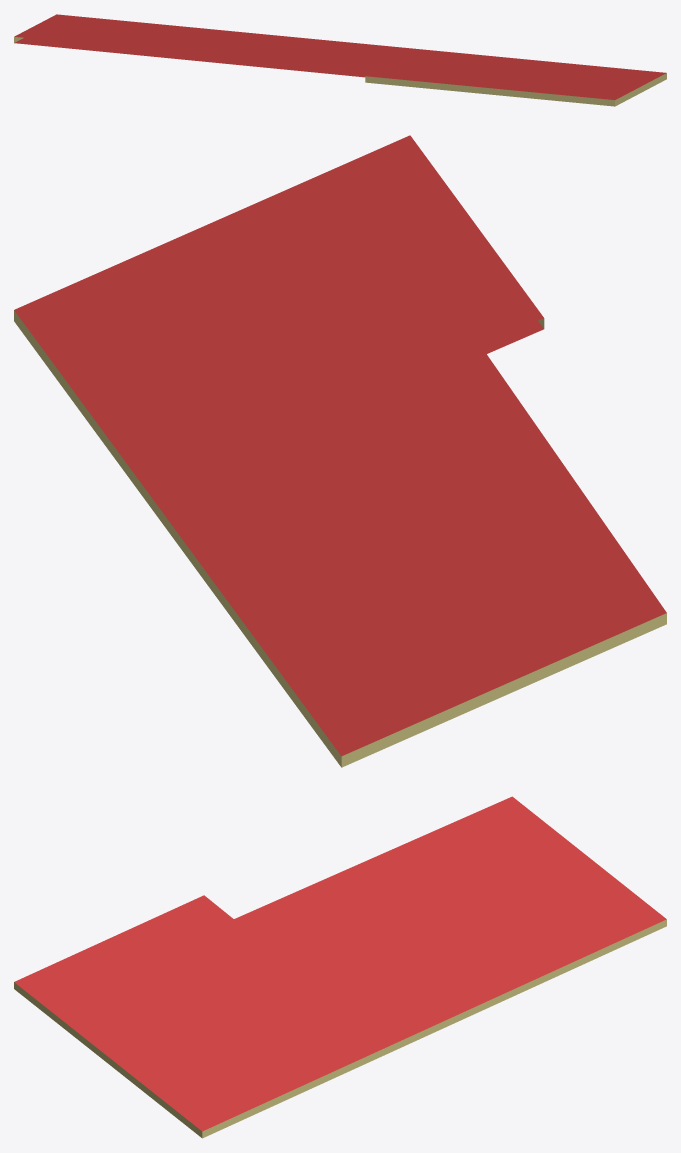
3 renders of one model, top to bottom at view 1: azimuth 30°, elevation 25°; view 2: azimuth 150°, elevation 25°; view 3: azimuth 270°, elevation 25°, orthographic. The views are drawn at different scales.
Parts seen in each view (by area): view 1: group_3, group_5, group_4; view 2: group_3, group_4; view 3: group_3, group_4.
Part boxes in pixels (x1=…): group_3: x1=14, y1=14, x2=665, y2=99; group_5: x1=14, y1=37, x2=373, y2=77; group_4: x1=14, y1=36, x2=666, y2=106; group_3: x1=14, y1=135, x2=666, y2=756; group_4: x1=14, y1=310, x2=666, y2=767; group_3: x1=14, y1=796, x2=666, y2=1131; group_4: x1=14, y1=919, x2=666, y2=1138.
Size of the model in its own units: 8.35 by 8.45 by 1.18.
